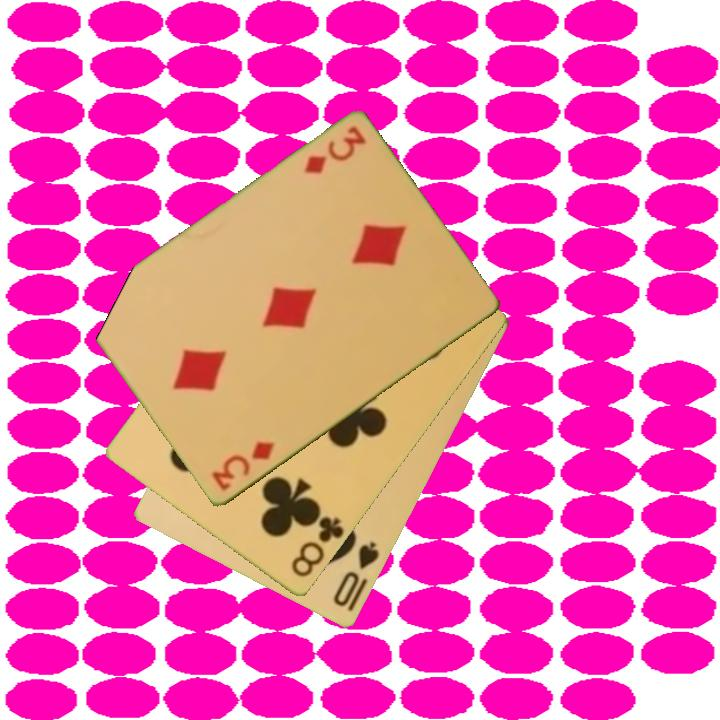10s: (330, 538, 383, 611)
3d: (207, 438, 278, 495), (300, 123, 369, 178)
8c: (287, 510, 347, 581)
